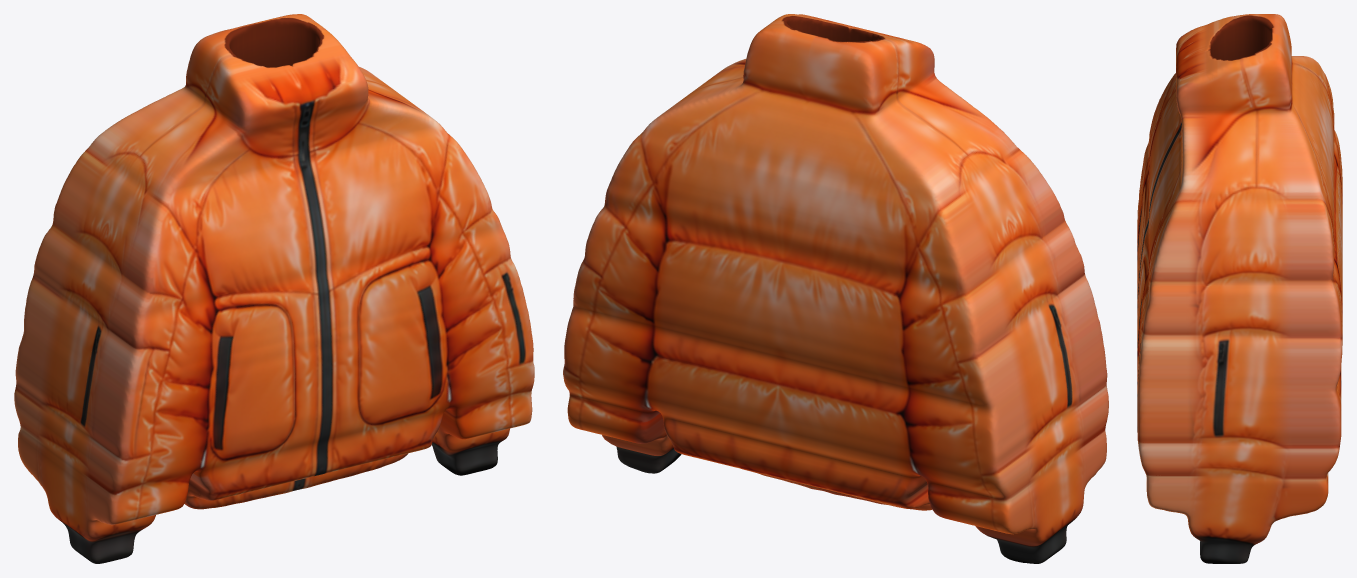
Rendered from jacket_orange_refined.glb.
The picture shows the model from 3 angles, left to right: view 1: azimuth 30°, elevation 25°; view 2: azimuth 150°, elevation 25°; view 3: azimuth 270°, elevation 25°; orthographic projection. The views are drawn at different scales.
Visible parts, largest first — view 1: Orange_Jacket_Refined; view 2: Orange_Jacket_Refined; view 3: Orange_Jacket_Refined.
Part boxes in pixels (x1,y1,x2,y2): Orange_Jacket_Refined: [14, 14, 534, 563]; Orange_Jacket_Refined: [563, 14, 1108, 563]; Orange_Jacket_Refined: [1137, 14, 1342, 563].
Bounding box in the file's own units: 1.88 × 2 × 0.8395.
Materials: 1 (1 with a texture image).
